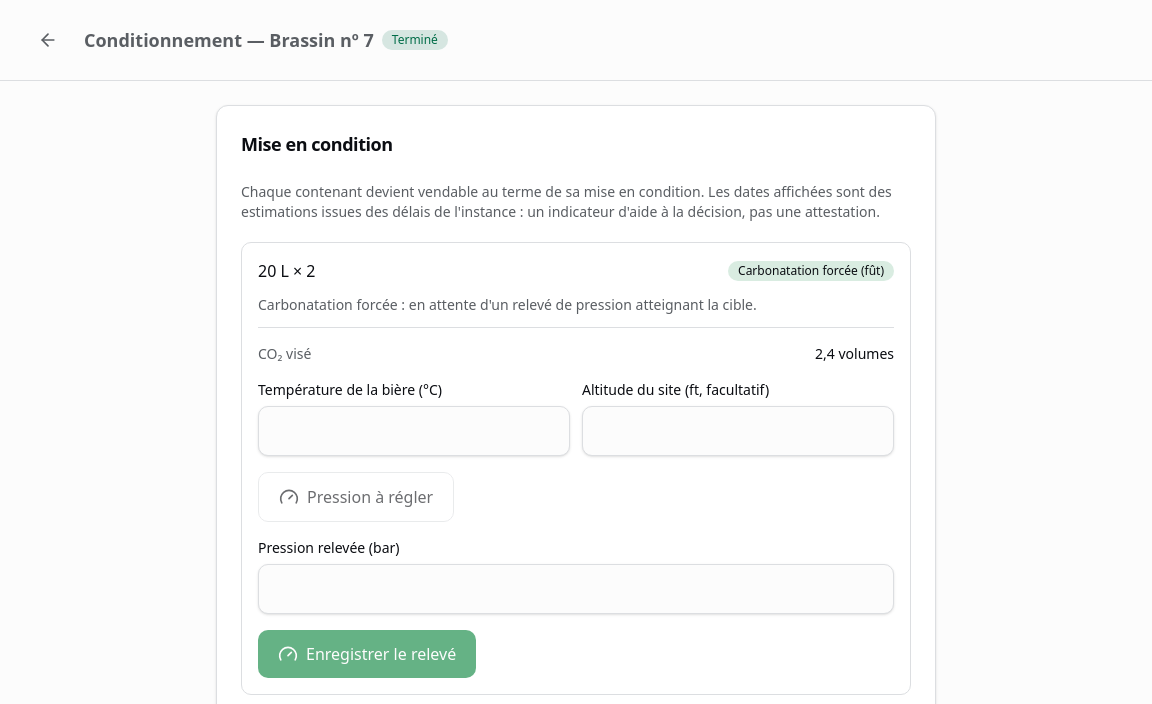
Test case: relevé de carbonatation forcée (#273) › relevé atteignant la cible › porte la date de mise en vente SUR LA LIGNE, après rechargement
This screenshot has width=1152, height=704.
In the number field labelled "Température de la bière (°C)": x=414, y=431 258,406 -> 570,456, type "4"
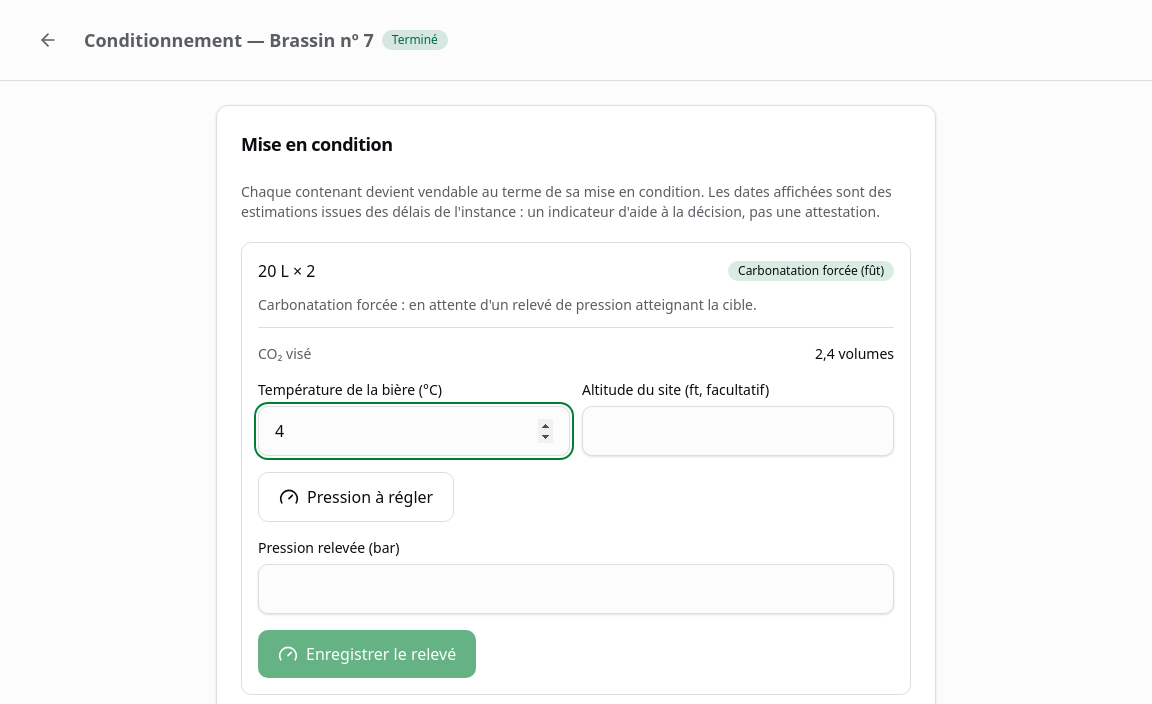
In the number field labelled "Pression relevée (bar)": x=576, y=589 258,564 -> 894,614, type "1.3"
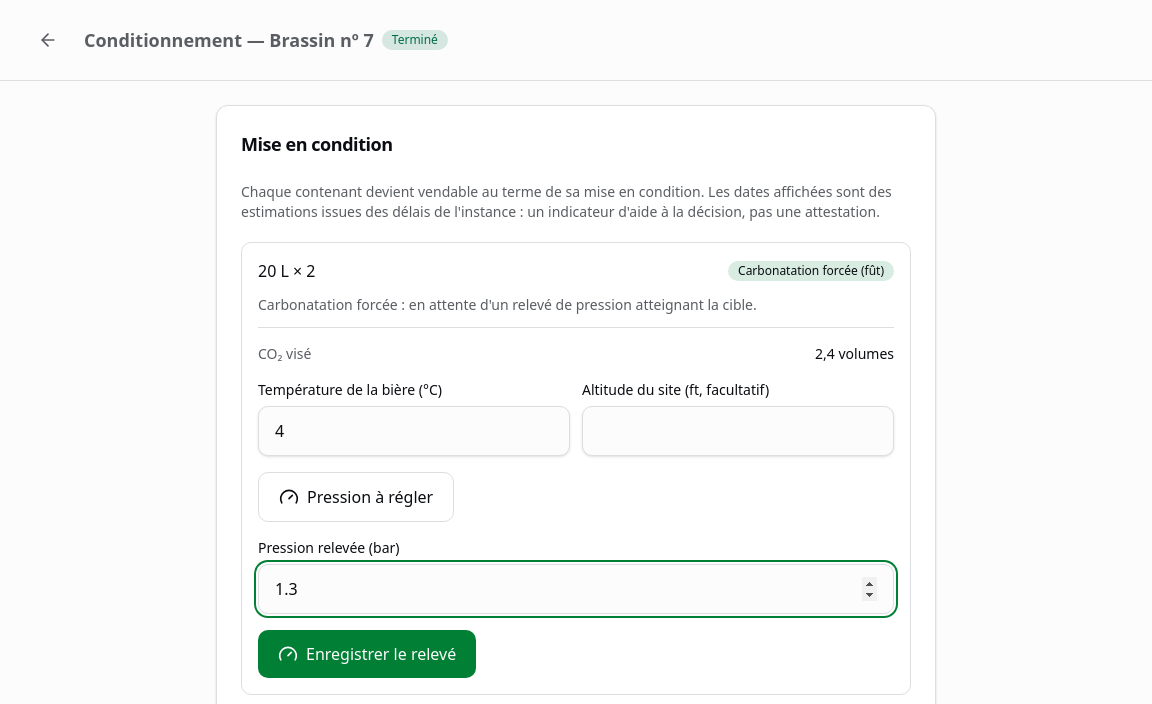
Click the button "Enregistrer le relevé": x=367, y=654 258,630 -> 476,678
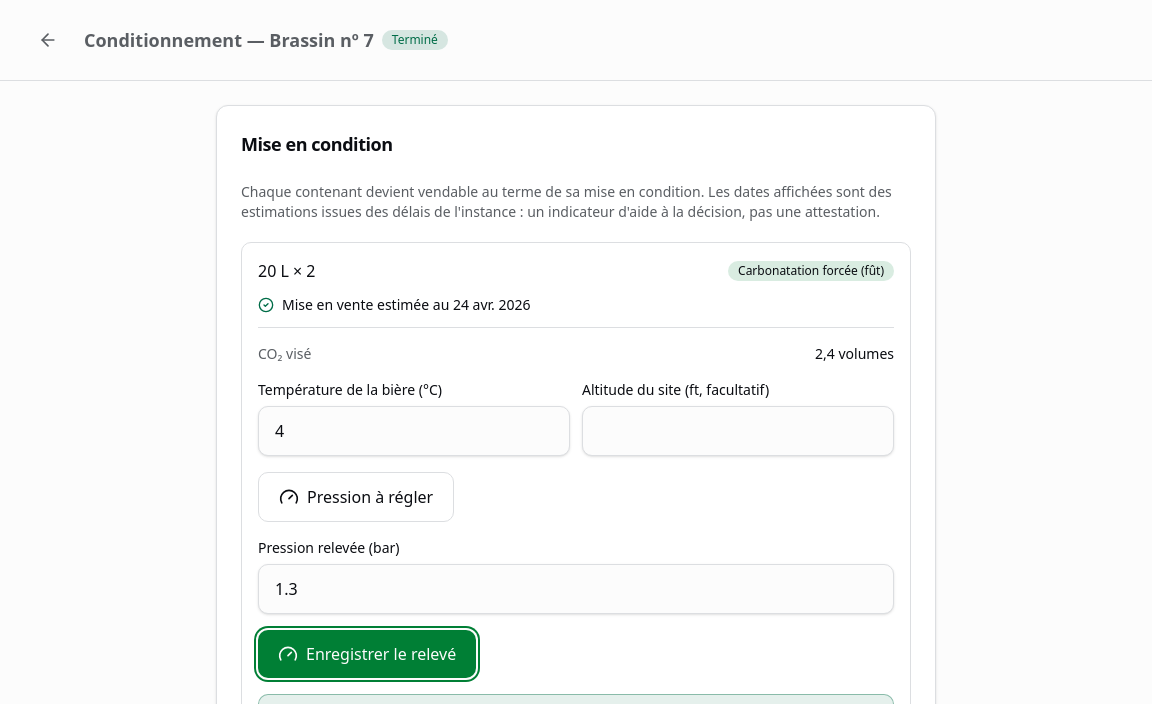
Expected: the text "Mise en vente estimée au 24 avr. 2026" is shown, 282,295 -> 530,315
